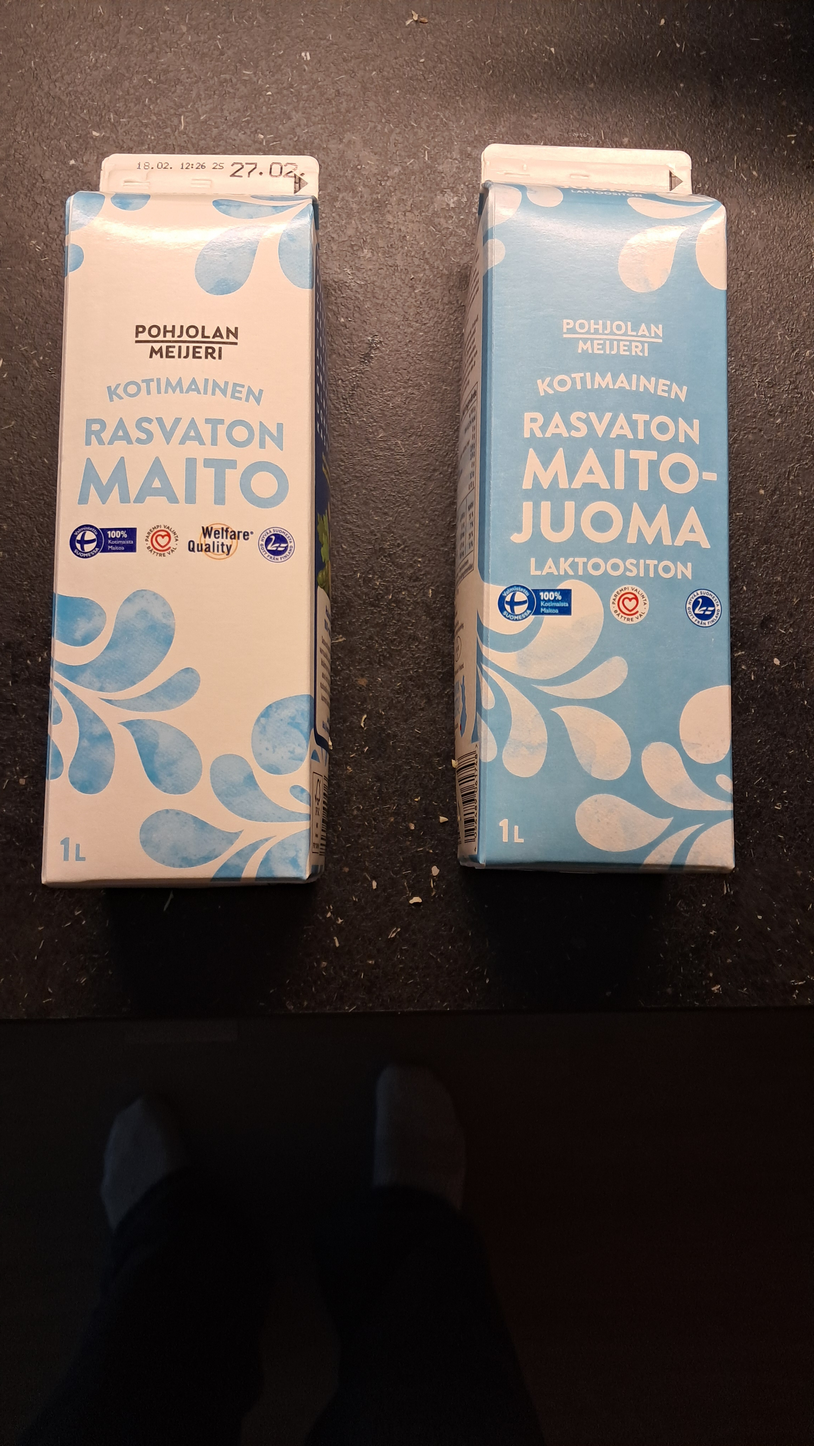Dryckeskartong: (39, 152, 324, 887), (455, 140, 733, 877)
